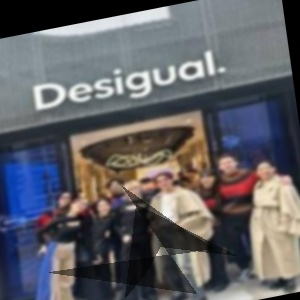desigual: (198, 12, 249, 61)
